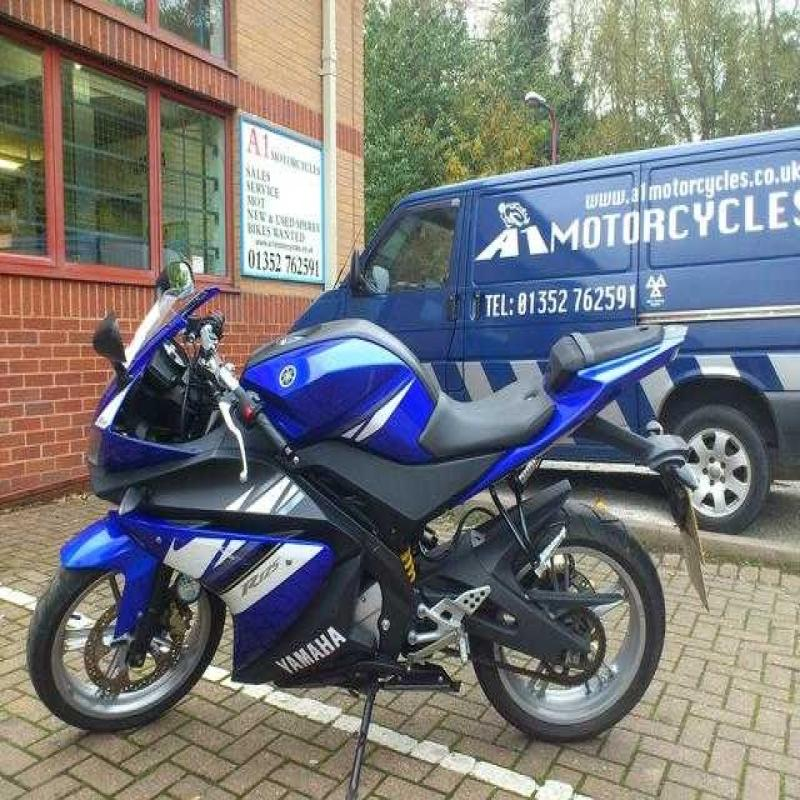bike: (40, 190, 712, 754)
